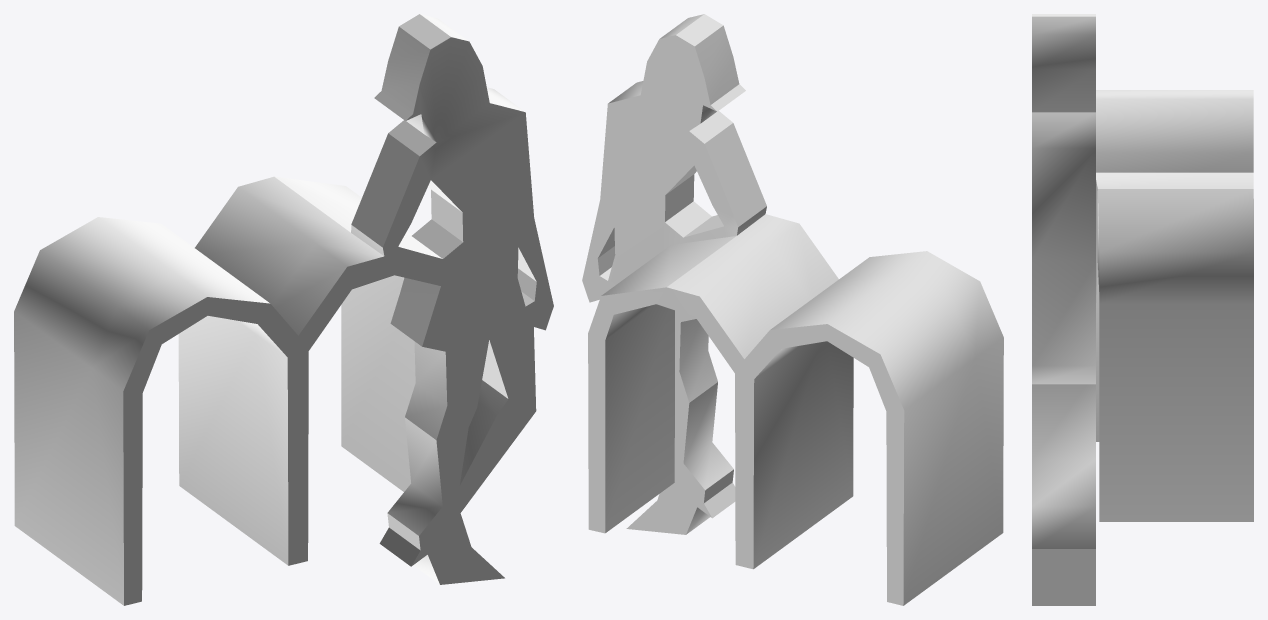
File: Game.ico.obj
3 renders of one model, left to right at view 1: azimuth 30°, elevation 25°; view 2: azimuth 150°, elevation 25°; view 3: azimuth 270°, elevation 25°, orthographic. The views are drawn at different scales.
Size of the model in its own units: 2.93 by 3.61 by 1.29.
1 material, 1 textured.
